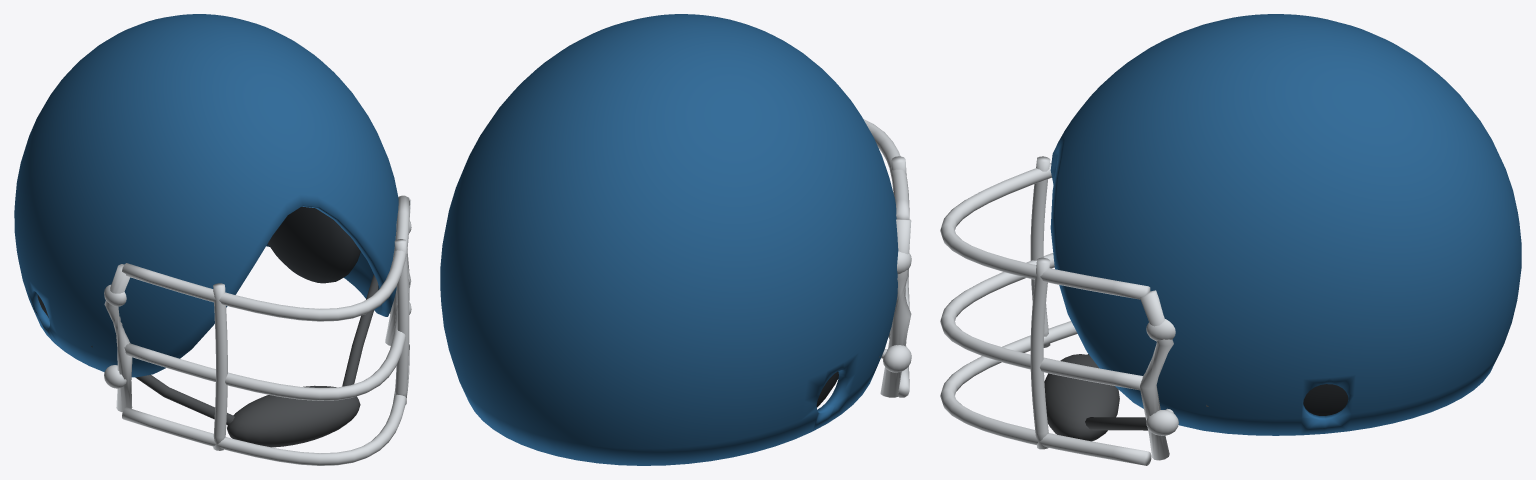
3 renders of one model, left to right at view 1: azimuth 30°, elevation 25°; view 2: azimuth 150°, elevation 25°; view 3: azimuth 270°, elevation 25°, orthographic. The views are drawn at different scales.
Parts seen in each view (by area): view 1: Protective shell with complete inner wall, Chin cup, Right cheek liner, Faceguard horizontal welded rail 0, Faceguard horizontal welded rail 2, Faceguard horizontal welded rail 1, Faceguard vertical welded stay 0, Side faceguard mounting bracket -1, Faceguard vertical welded stay 1, Chin retention strap 1, Chin retention strap -1, Side faceguard mounting bracket 1; view 2: Protective shell with complete inner wall, Side faceguard mounting bracket -1, Faceguard horizontal welded rail 0, Faceguard mounting hardware.001; view 3: Protective shell with complete inner wall, Faceguard horizontal welded rail 0, Faceguard horizontal welded rail 2, Faceguard horizontal welded rail 1, Chin cup, Faceguard vertical welded stay 1, Side faceguard mounting bracket 1, Faceguard vertical welded stay 0, Right cheek liner, Chin retention strap 1, Faceguard mounting hardware.003.
Boxes of the visible parts, left/top/right/bottom form: Protective shell with complete inner wall: left=14, top=14, right=398, bottom=377; Chin cup: left=227, top=385, right=360, bottom=447; Right cheek liner: left=268, top=206, right=360, bottom=283; Faceguard horizontal welded rail 0: left=122, top=195, right=409, bottom=321; Faceguard horizontal welded rail 2: left=122, top=344, right=409, bottom=465; Faceguard horizontal welded rail 1: left=124, top=279, right=409, bottom=400; Faceguard vertical welded stay 0: left=213, top=283, right=227, bottom=450; Side faceguard mounting bracket -1: left=104, top=264, right=132, bottom=412; Faceguard vertical welded stay 1: left=394, top=239, right=409, bottom=404; Chin retention strap 1: left=342, top=274, right=378, bottom=386; Chin retention strap -1: left=91, top=346, right=234, bottom=425; Side faceguard mounting bracket 1: left=385, top=196, right=411, bottom=345; Protective shell with complete inner wall: left=440, top=14, right=898, bottom=465; Side faceguard mounting bracket -1: left=880, top=219, right=911, bottom=397; Faceguard horizontal welded rail 0: left=863, top=119, right=909, bottom=219; Faceguard mounting hardware.001: left=883, top=345, right=911, bottom=372; Protective shell with complete inner wall: left=1050, top=14, right=1521, bottom=435; Faceguard horizontal welded rail 0: left=940, top=162, right=1150, bottom=299; Faceguard horizontal welded rail 2: left=940, top=321, right=1151, bottom=465; Faceguard horizontal welded rail 1: left=940, top=253, right=1142, bottom=390; Chin cup: left=1044, top=354, right=1119, bottom=441; Faceguard vertical welded stay 1: left=1030, top=257, right=1050, bottom=449; Side faceguard mounting bracket 1: left=1140, top=290, right=1173, bottom=460; Faceguard vertical welded stay 0: left=1030, top=156, right=1050, bottom=347; Right cheek liner: left=1303, top=384, right=1348, bottom=415; Chin retention strap 1: left=1085, top=405, right=1208, bottom=430; Faceguard mounting hardware.003: left=1146, top=410, right=1178, bottom=435.
Size of the model in its own units: 0.2598 by 0.265 by 0.3544.
